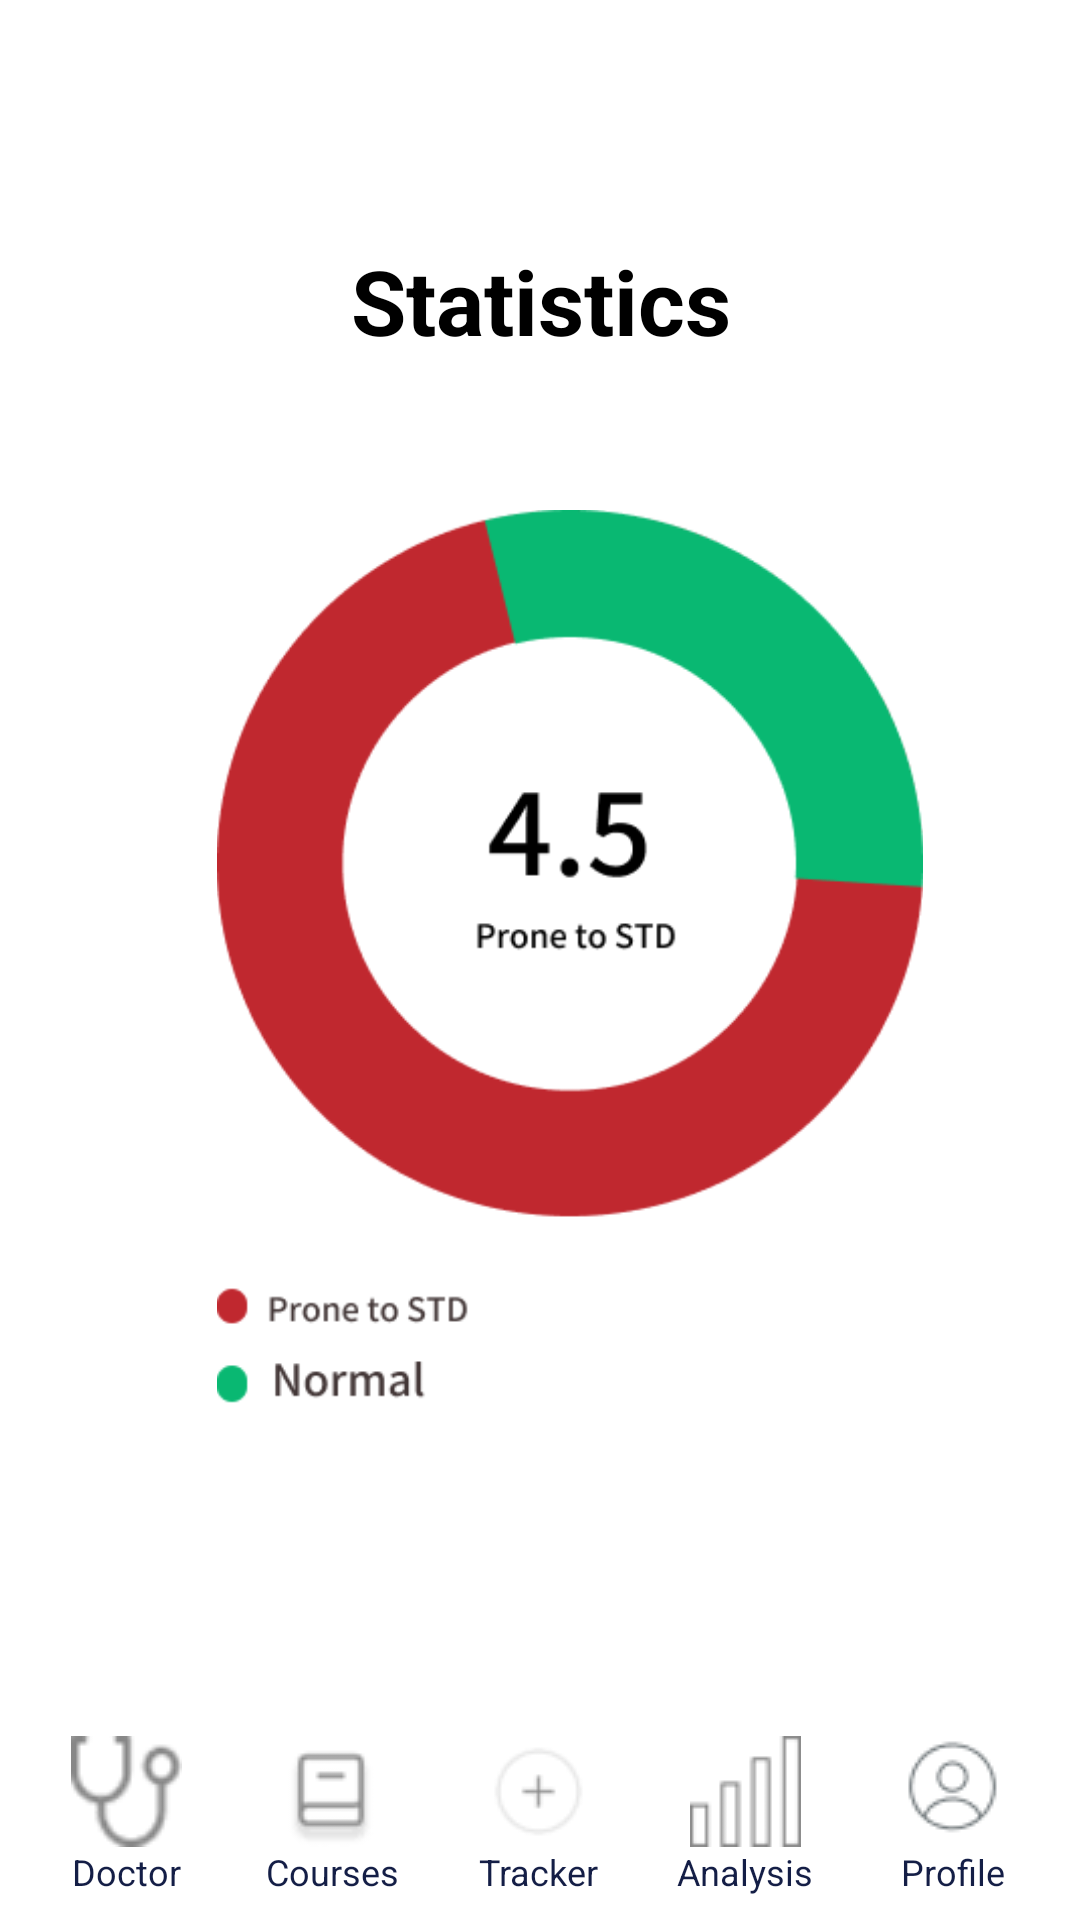

Icon click points for this 1080x1920 phone screenshot, format point (x, y):
book: point (331, 1794)
